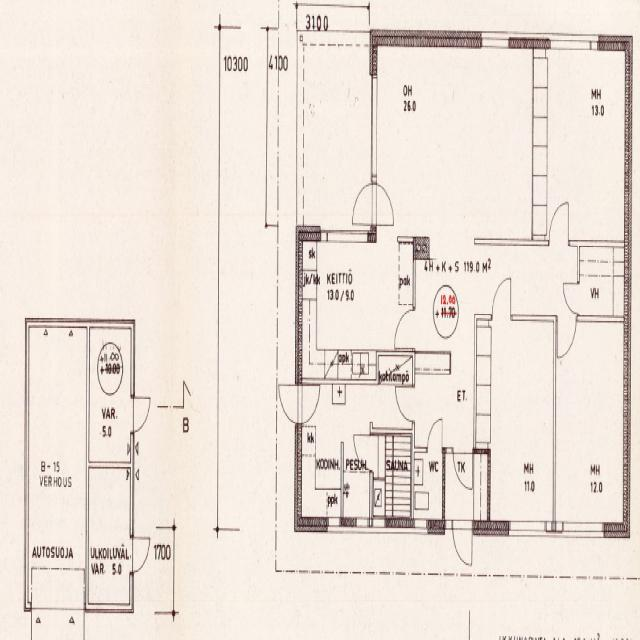door: (453, 519, 472, 575), (370, 184, 396, 224), (351, 184, 376, 224), (276, 385, 302, 423), (549, 196, 569, 242), (557, 316, 576, 360), (326, 410, 345, 453), (394, 311, 415, 348), (364, 390, 385, 426), (492, 316, 510, 358), (396, 387, 415, 421), (427, 417, 442, 453), (563, 283, 579, 314)
